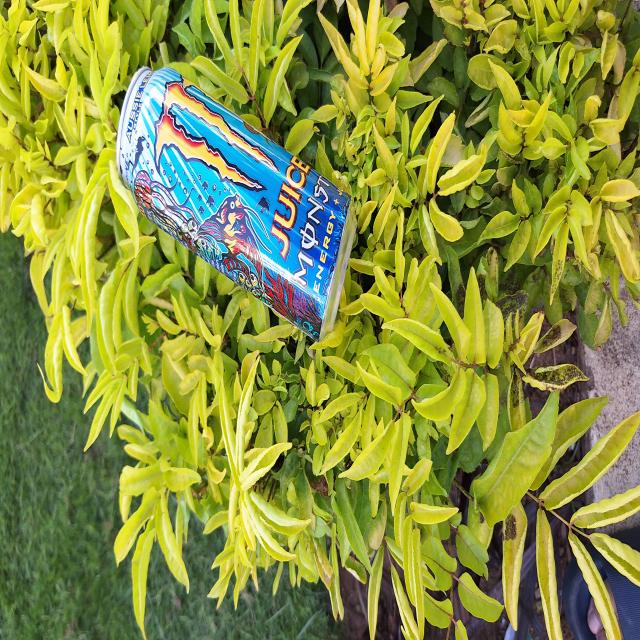Monster Aussie Lemonade: (114, 59, 354, 338)
